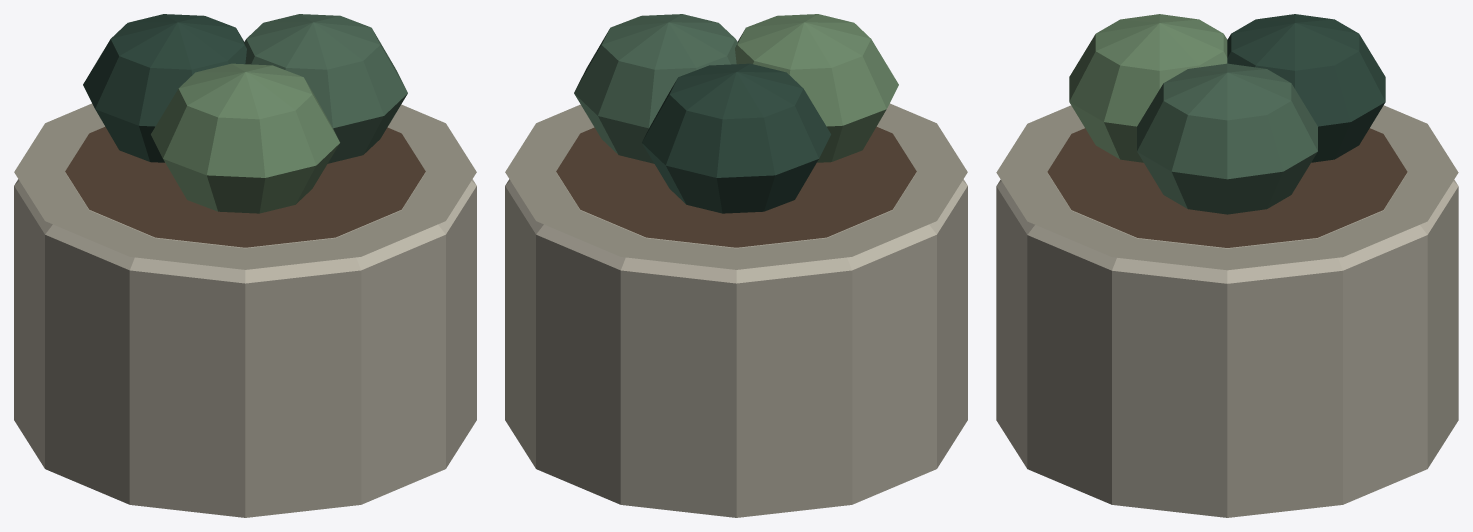
File: gate.planter.glb
3 renders of one model, left to right at view 1: azimuth 30°, elevation 25°; view 2: azimuth 150°, elevation 25°; view 3: azimuth 270°, elevation 25°, orthographic.
Bounding box in the file's own units: 0.68 × 0.618 × 0.68.
